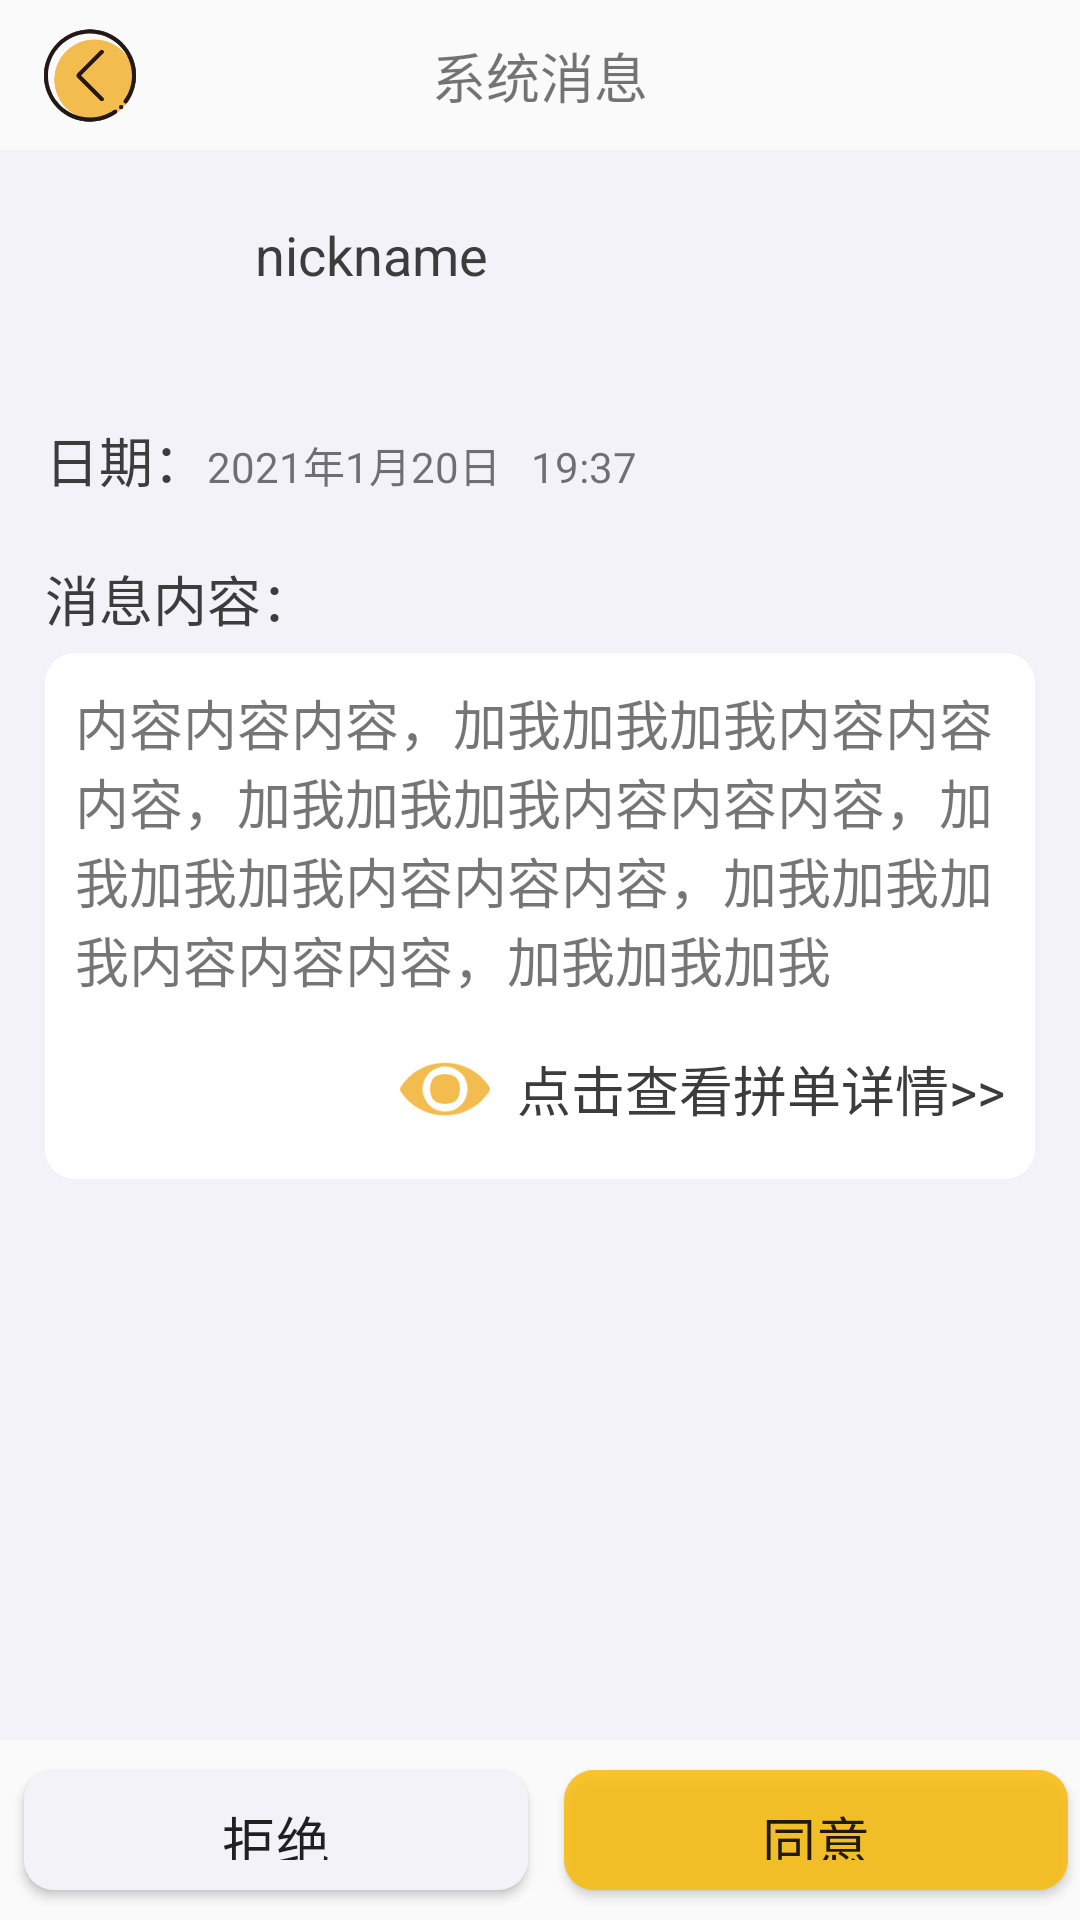

Screen size 1080*1920. Icon name, then its center in pixels as (x,y):
fanhui: (90,75)
view: (445,1089)
